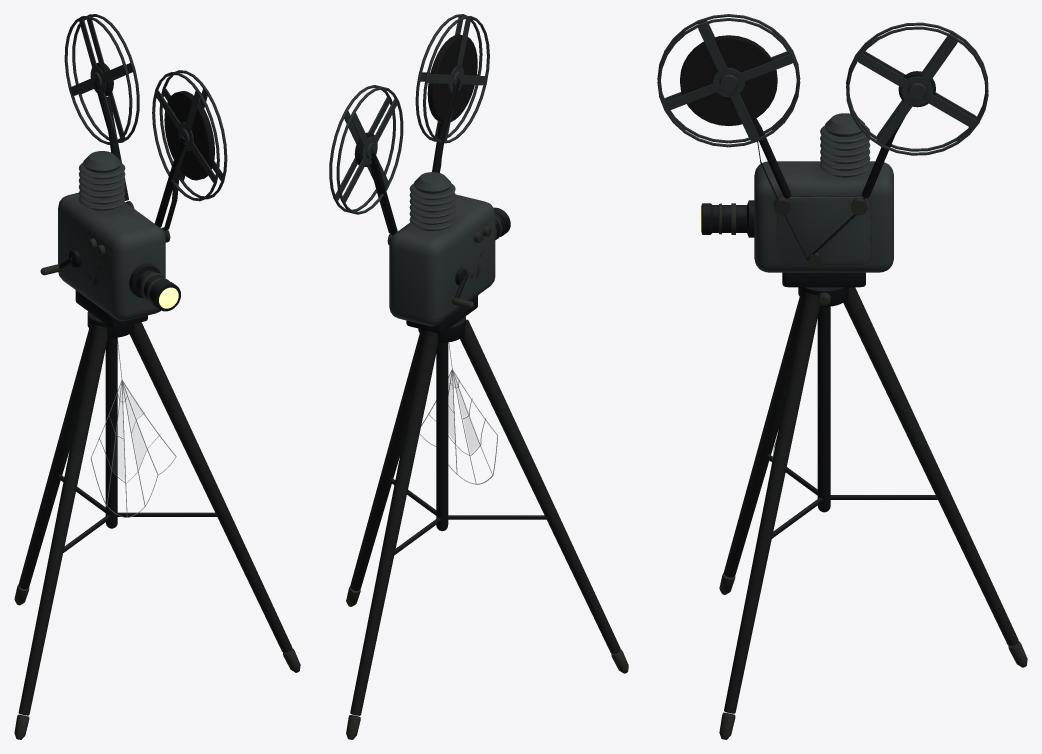
File: film-projector.glb
3 views of the same model, side by side, from view 1: azimuth 30°, elevation 25°; view 2: azimuth 150°, elevation 25°; view 3: azimuth 270°, elevation 25° (orthographic). The views are drawn at different scales.
Parts seen in each view (by area): view 1: film-projector_body, film-projector_reel_front, film-projector_reel_back, film-projector_web; view 2: film-projector_body, film-projector_reel_front, film-projector_reel_back, film-projector_web; view 3: film-projector_body, film-projector_reel_front, film-projector_reel_back.
Boxes of the visible parts, <box> form: film-projector_body: <box>14,79,300,739</box>; film-projector_reel_front: <box>152,70,227,201</box>; film-projector_reel_back: <box>64,14,139,144</box>; film-projector_web: <box>90,337,176,517</box>; film-projector_body: <box>346,78,628,739</box>; film-projector_reel_front: <box>415,14,489,143</box>; film-projector_reel_back: <box>329,85,403,214</box>; film-projector_web: <box>419,342,497,484</box>; film-projector_body: <box>701,113,1027,739</box>; film-projector_reel_front: <box>657,14,800,147</box>; film-projector_reel_back: <box>846,22,988,155</box>.
Bounding box in the file's own units: 0.7609 × 1.59 × 0.7954.
Materials: 6 (3 with a texture image).
